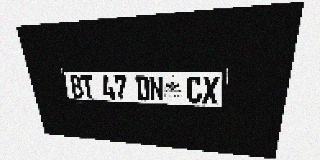4: (101, 76, 116, 100)
7: (113, 76, 128, 100)
B: (69, 75, 84, 98)
C: (187, 76, 202, 103)
D: (135, 76, 150, 101)
N: (149, 76, 164, 102)
T: (80, 75, 95, 99)
X: (202, 76, 219, 104)
